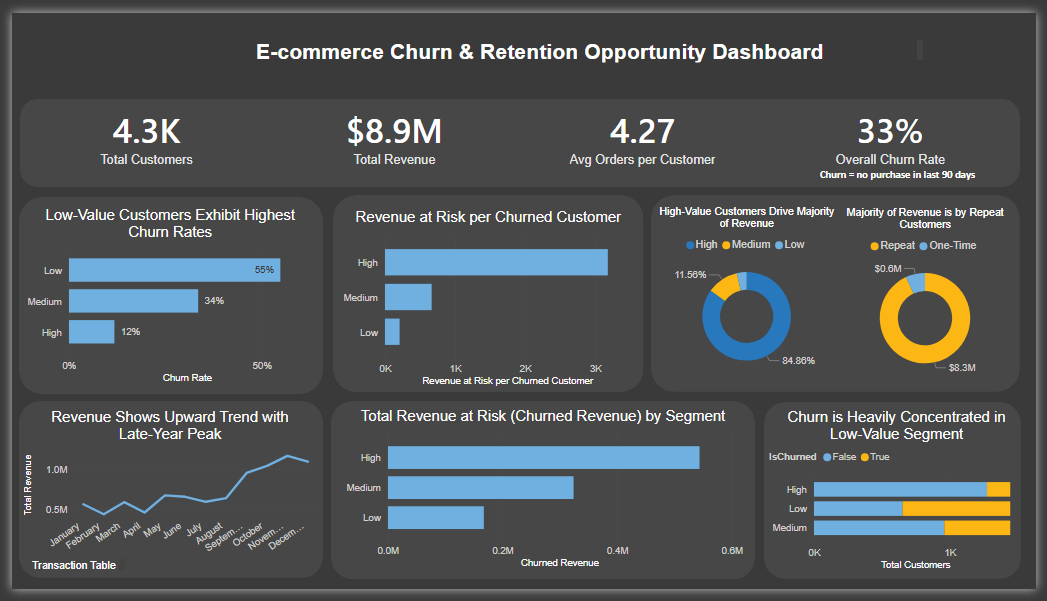

What the dashboard file says about the page in this screenshot:
{"tool":"powerbi","page":{"name":"Page 1","canvas":[1280,720],"ordinal":0},"visuals":[{"type":"shape","box":[401.5,228,388.3,246.7],"z":0,"group":"g1"},{"type":"shape","box":[9,230,380,246.7],"z":500,"group":"g1"},{"type":"group","id":"g1","title":"Group 1","box":[9,108,1252.5,600],"z":1000},{"type":"shape","box":[799,228,461.2,246.2],"z":1000,"group":"g1"},{"type":"shape","box":[9,485.1,380,221.4],"z":2000,"group":"g1"},{"type":"cardVisual","fields":{"Data":["customer_analysis.Total Customers","customer_analysis.Total Revenue","customer_analysis.Avergae Orders per Customer","customer_analysis.ChurnRate"]},"box":[0,66.2,1266.2,176.2],"z":3000},{"type":"shape","box":[399,485.1,530,222.9],"z":3000,"group":"g1"},{"type":"barChart","title":"Low-Value Customers Exhibit Highest Churn Rates","fields":{"Category":["customer_analysis.segment"],"Y":["customer_analysis.ChurnRate"]},"box":[10,241.5,375.4,226.9],"z":4000},{"type":"shape","box":[940.2,486.8,321.2,221.2],"z":4000,"group":"g1"},{"type":"shape","box":[9.7,108,1250,110],"z":4500,"group":"g1"},{"type":"barChart","title":"Churn is Heavily Concentrated in Low-Value Segment","fields":{"Category":["customer_analysis.segment"],"Y":["customer_analysis.Total Customers"],"Series":["customer_analysis.IsChurned"]},"box":[941.2,493.8,328.8,207.5],"z":5000},{"type":"donutChart","title":"High-Value Customers Drive Majority of Revenue","fields":{"Y":["customer_analysis.Total Revenue"],"Category":["customer_analysis.segment"]},"box":[804.3,240.2,229.1,219.7],"z":6000},{"type":"lineChart","title":"Revenue Shows Upward Trend with Late-Year Peak","fields":{"Y":["Sum(cleaned_transactions.TotalPrice)"],"Category":["cleaned_transactions.InvoiceDate.Variation.Date Hierarchy.Month"]},"box":[10,493.3,375,191.7],"z":7000},{"type":"donutChart","title":"Majority of Revenue is by Repeat Customers","fields":{"Category":["customer_analysis.CustomerType"],"Y":["customer_analysis.Total Revenue"]},"box":[1021.7,241.7,240,221.7],"z":8000},{"type":"textbox","box":[183.3,28.3,960,38.3],"z":9000},{"type":"textbox","box":[20,678,127,24],"z":10000},{"type":"textbox","box":[988.6,188.6,235.7,30],"z":11000},{"type":"barChart","title":"Revenue at Risk per Churned Customer","fields":{"Category":["customer_analysis.segment"],"Y":["_Measures.Revenue at Risk per Churned Customer"]},"box":[405,243.3,380.8,228.3],"z":12000},{"type":"barChart","title":"Total Revenue at Risk (Churned Revenue) by Segment","fields":{"Category":["customer_analysis.segment"],"Y":["_Measures.Churned Revenue"]},"box":[408.6,492.9,510,207.1],"z":13000}]}

Visuals, with their boxes in screenshot pixels (x1, y1, x2, y2), scaled from the page's 1280x720 canvas onto the 1047x601 screenshot:
shape: 328 190 646 396
shape: 7 192 318 398
"Group 1" group: 7 90 1032 591
shape: 654 190 1031 396
shape: 7 405 318 590
cardVisual - customer_analysis.Total Customers x customer_analysis.Total Revenue: 0 55 1036 202
shape: 326 405 760 591
"Low-Value Customers Exhibit Highest Churn Rates" barChart: 8 202 315 391
shape: 769 406 1032 591
shape: 8 90 1030 182
"Churn is Heavily Concentrated in Low-Value Segment" barChart: 770 412 1039 585
"High-Value Customers Drive Majority of Revenue" donutChart: 658 201 845 384
"Revenue Shows Upward Trend with Late-Year Peak" lineChart: 8 412 315 572
"Majority of Revenue is by Repeat Customers" donutChart: 836 202 1032 387
textbox: 150 24 935 56
textbox: 16 566 120 586
textbox: 809 157 1001 182
"Revenue at Risk per Churned Customer" barChart: 331 203 643 394
"Total Revenue at Risk (Churned Revenue) by Segment" barChart: 334 411 751 584
